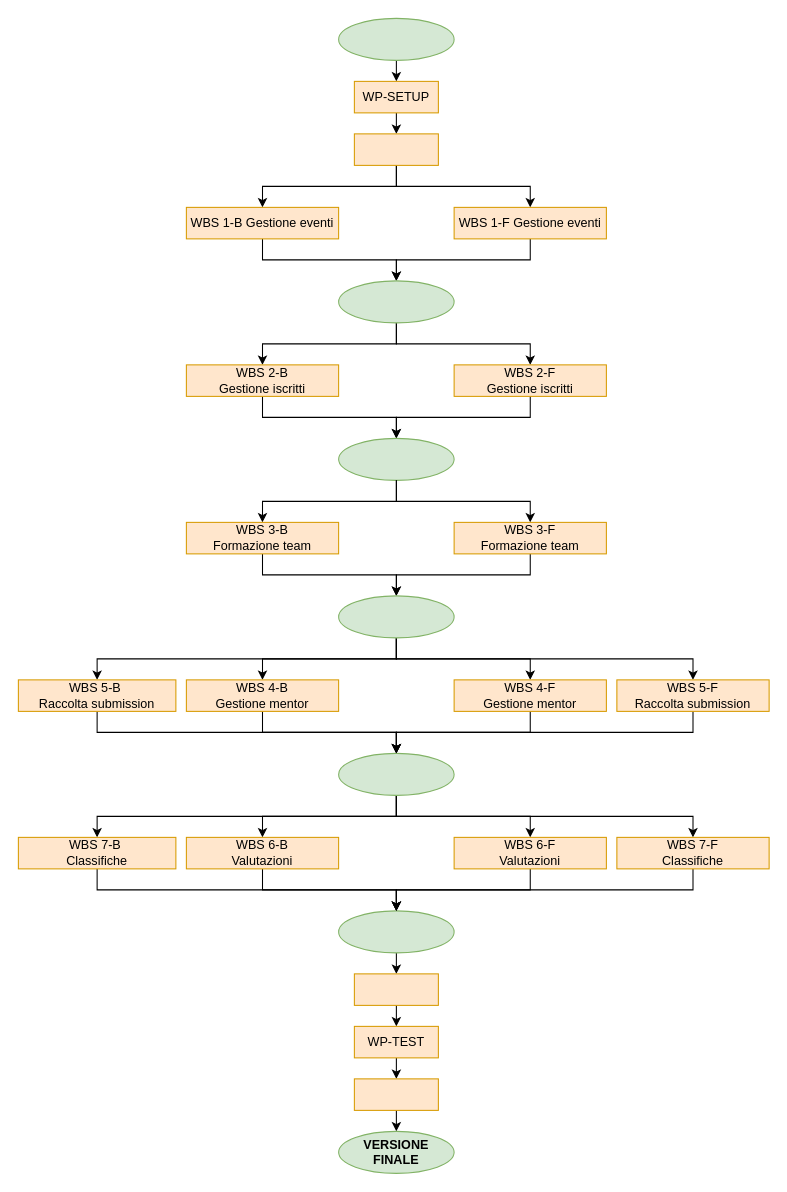
Image size: 787x1192. Some labels were removed from this diagram. The shapes that lost their labels are listed below. From the top down, each one's centre as x and y in pixels, then its label:
At [396,38]: "START".
At [395,149]: "WP-MOCK".
At [396,301]: "VERSIONE PRESENTABILE".
At [396,458]: "VERSIONE ACCESSIBILE".
At [396,616]: "VERSIONE OPERATIVA".
At [396,773]: "1^ VERSIONE COMPLETA".
At [396,931]: "2^ VERSIONE COMPLETA".
At [395,989]: "WP-INT".
At [395,1094]: "WP-DEPLOY".
